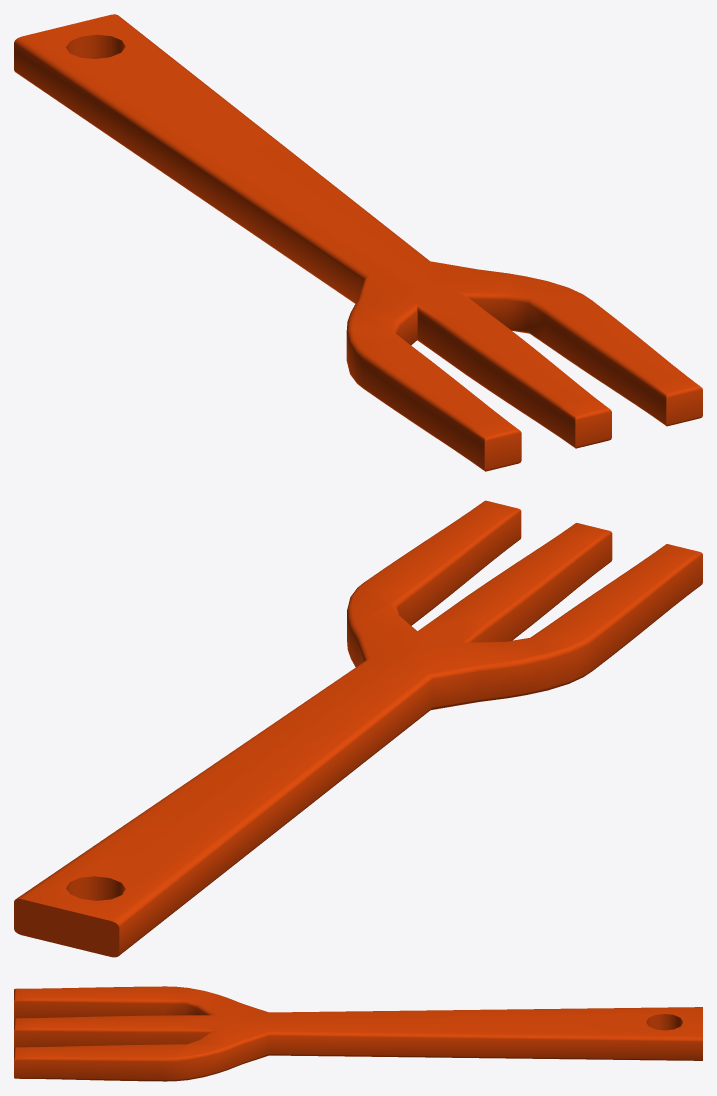
File: Carving Fork_2.fbx
The picture shows the model from 3 angles, top to bottom: view 1: azimuth 30°, elevation 25°; view 2: azimuth 150°, elevation 25°; view 3: azimuth 270°, elevation 25°; orthographic projection. The views are drawn at different scales.
Visible parts, largest first — view 1: Carving Fork_2; view 2: Carving Fork_2; view 3: Carving Fork_2.
Part boxes in pixels (bbox=[...]): Carving Fork_2: bbox=[14, 14, 702, 471]; Carving Fork_2: bbox=[14, 500, 702, 957]; Carving Fork_2: bbox=[14, 986, 702, 1081].
Size of the model in its own units: 0.0769 by 0.0117 by 0.3045.
